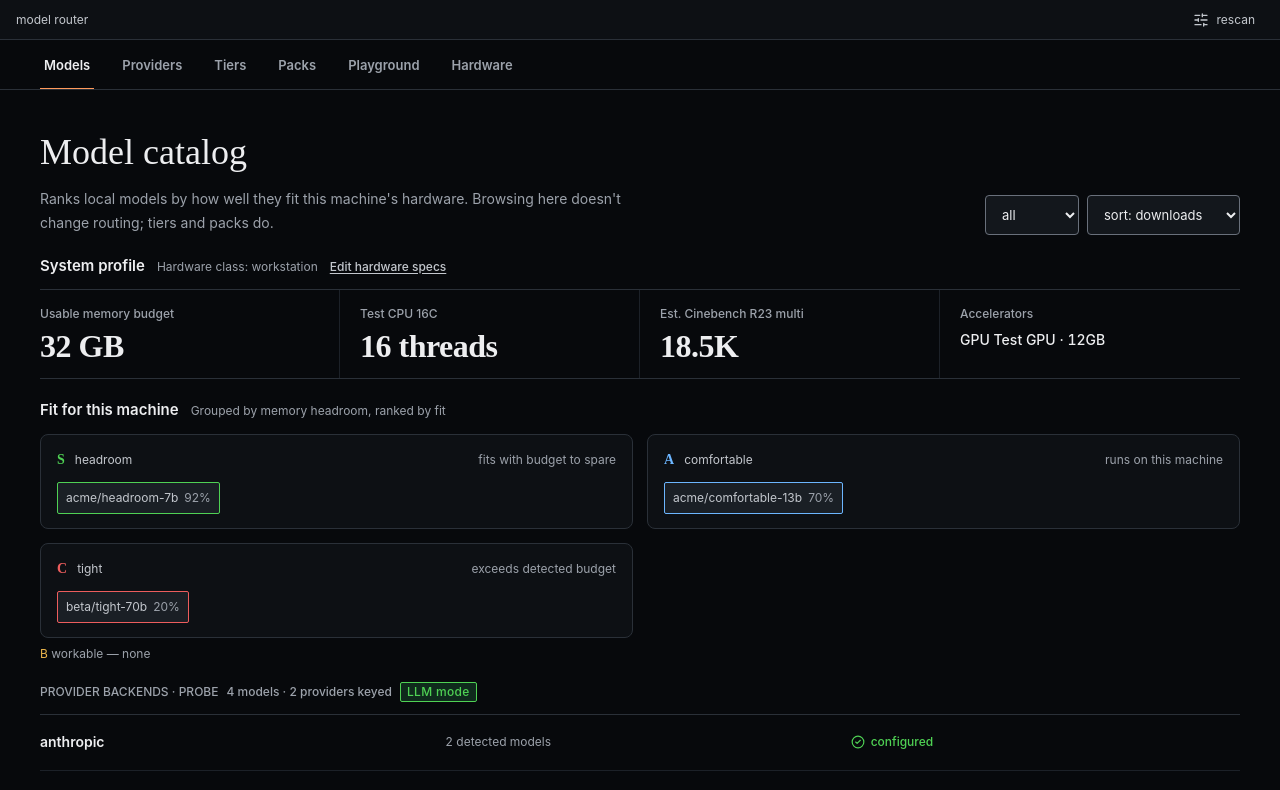
Test: ModelFinderPage › switches to the chat playground tab and back to the finder
Expected: the text "LLM mode" is shown, [400,682,476,702]
Click the tab with test id "chat-playground-tab" at x=384, y=65, box [344,40,424,90]
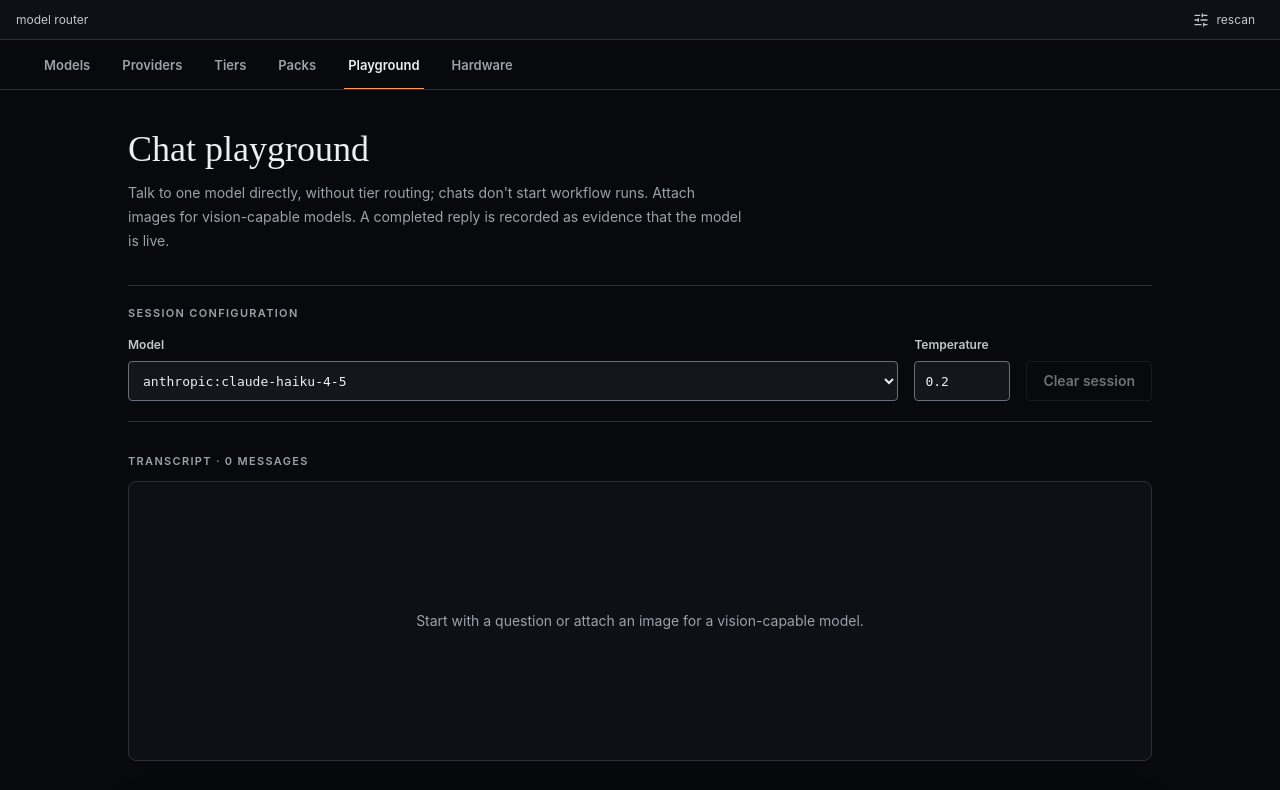
Expected: the dropdown with test id "chat-model-picker" is shown, [128,361,898,401]
Expected: the text with test id "probe-mode" is gone
Click the tab "Models" at x=67, y=65, box [40,40,94,90]
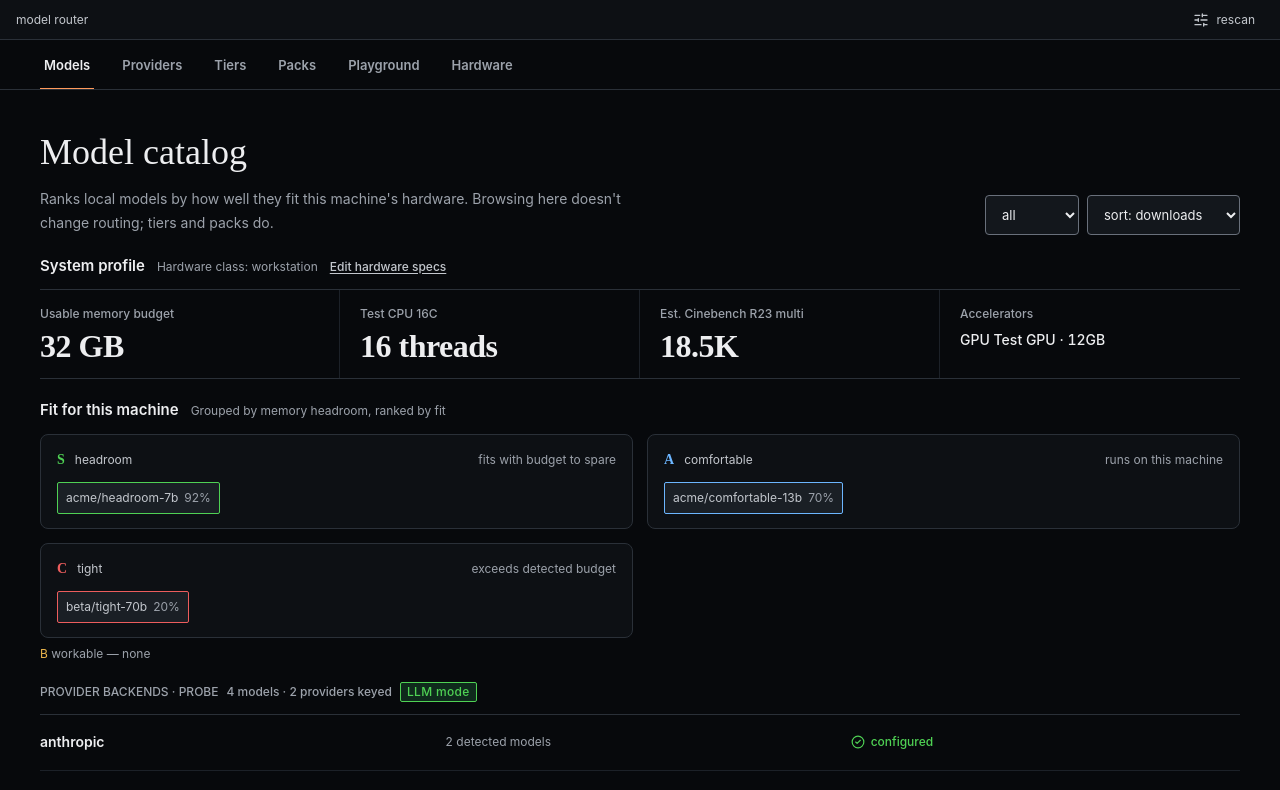
Expected: the button with aria-label "Rescan providers" is shown, [1184,6,1264,34]
Expected: the text "LLM mode" is shown, [400,682,476,702]
